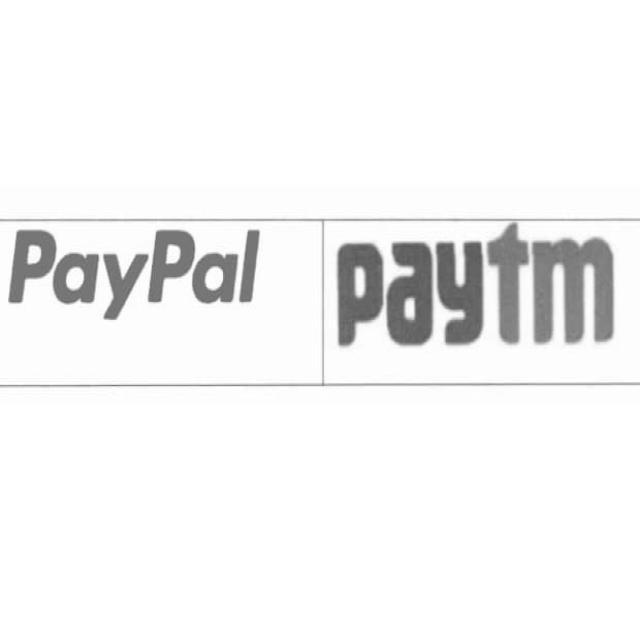fully_visible: (331, 228, 634, 358)
